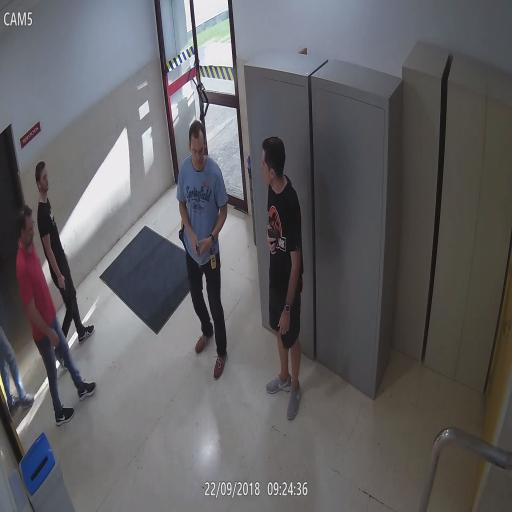Handgun: (266, 226, 280, 257), (177, 213, 186, 250), (57, 273, 70, 298)
